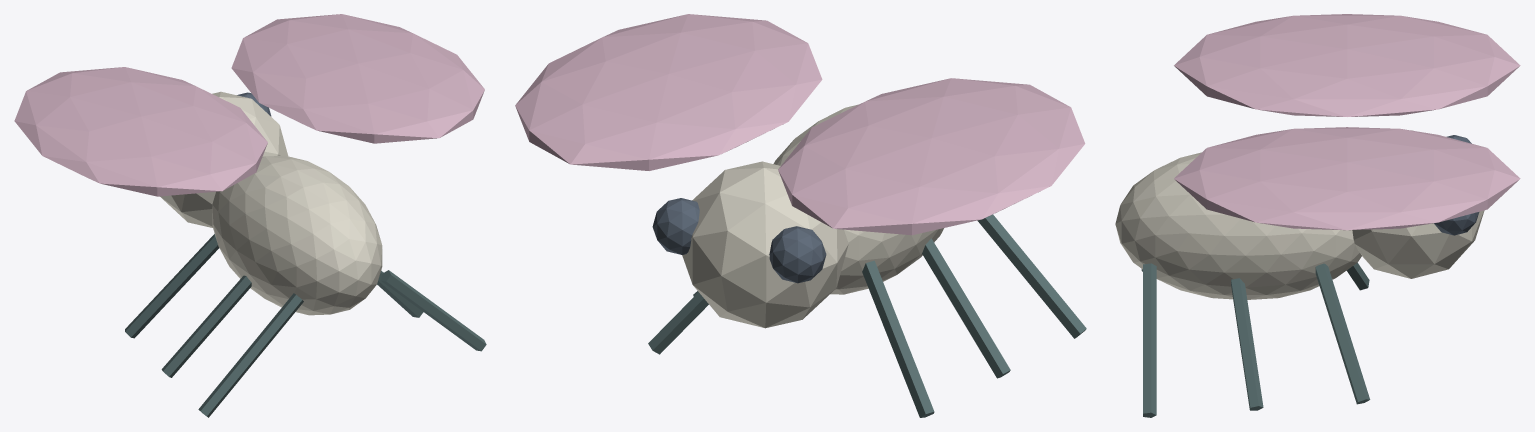
Rendered from moth.glb.
The picture shows the model from 3 angles, left to right: view 1: azimuth 30°, elevation 25°; view 2: azimuth 150°, elevation 25°; view 3: azimuth 270°, elevation 25°; orthographic projection. The views are drawn at different scales.
Visible parts, largest first — view 1: Wing_1_front, Wing_-1_front, Body, Head, Leg_-1_2, Leg_-1_0, Leg_-1_1, Leg_1_2, Leg_1_1; view 2: Wing_-1_front, Wing_1_front, Head, Body, Leg_-1_0, Leg_-1_1, Eye_-1, Leg_-1_2, Eye_1, Leg_1_0; view 3: Wing_1_front, Wing_-1_front, Body, Head, Leg_1_2, Leg_1_0, Leg_1_1, Eye_1.
Part boxes in pixels (left/top/right/bottom): Wing_1_front: left=231, top=14, right=484, bottom=143; Wing_-1_front: left=14, top=67, right=267, bottom=196; Body: left=212, top=155, right=382, bottom=315; Head: left=160, top=91, right=288, bottom=227; Leg_-1_2: left=198, top=293, right=303, bottom=417; Leg_-1_0: left=125, top=234, right=218, bottom=338; Leg_-1_1: left=161, top=275, right=251, bottom=377; Leg_1_2: left=381, top=270, right=486, bottom=351; Leg_1_1: left=377, top=270, right=423, bottom=317; Wing_-1_front: left=778, top=78, right=1085, bottom=235; Wing_1_front: left=515, top=14, right=822, bottom=170; Head: left=682, top=161, right=848, bottom=328; Body: left=773, top=104, right=943, bottom=294; Leg_-1_0: left=862, top=260, right=934, bottom=417; Leg_-1_1: left=922, top=238, right=1010, bottom=378; Eye_-1: left=769, top=226, right=826, bottom=283; Leg_-1_2: left=977, top=214, right=1086, bottom=338; Eye_1: left=652, top=198, right=699, bottom=254; Leg_1_0: left=648, top=292, right=708, bottom=354; Wing_1_front: left=1174, top=127, right=1520, bottom=230; Wing_-1_front: left=1174, top=14, right=1520, bottom=116; Body: left=1115, top=152, right=1361, bottom=299; Head: left=1352, top=130, right=1484, bottom=278; Leg_1_2: left=1143, top=263, right=1156, bottom=417; Leg_1_0: left=1315, top=263, right=1370, bottom=404; Leg_1_1: left=1231, top=278, right=1263, bottom=410; Eye_1: left=1434, top=212, right=1479, bottom=235.
Size of the model in its own units: 0.956 by 0.4983 by 0.757.
